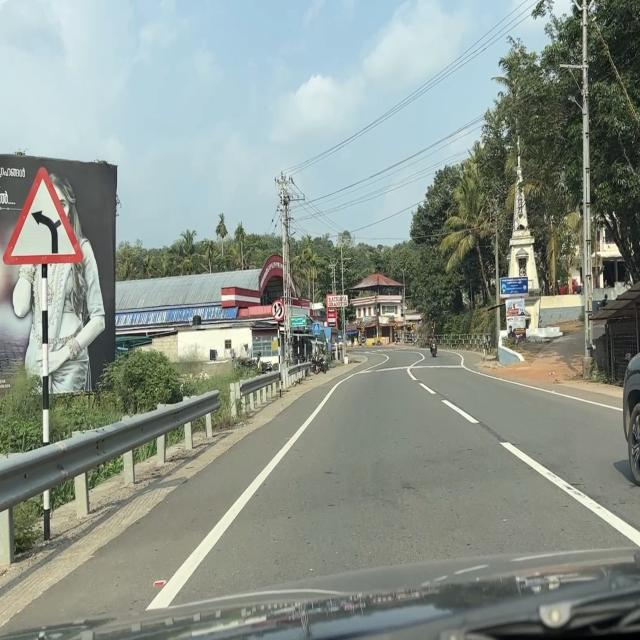LEFT_TURN_AHEAD: (3, 164, 84, 266)
OVERTAKING_PROHIBITED: (271, 300, 286, 321)
